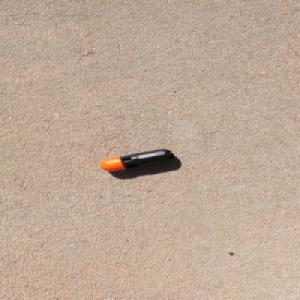PlasticPart: (98, 148, 175, 172)
